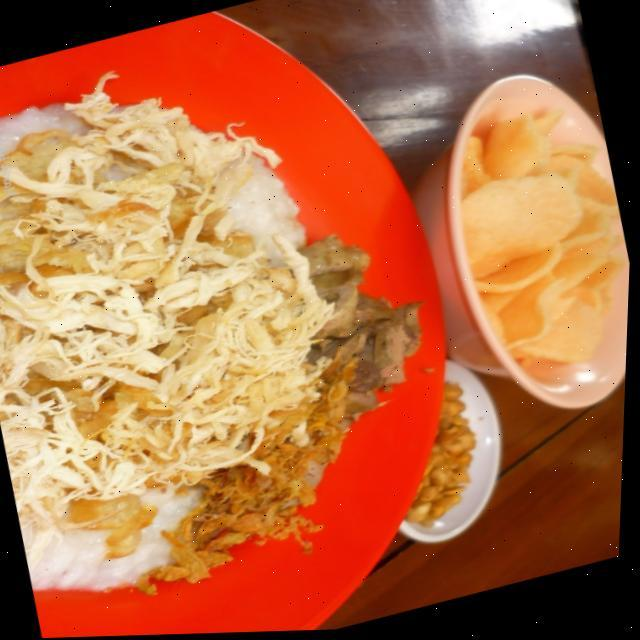bubur ayam: (0, 22, 482, 611)
mangkuk: (379, 53, 637, 443), (362, 347, 526, 552)
